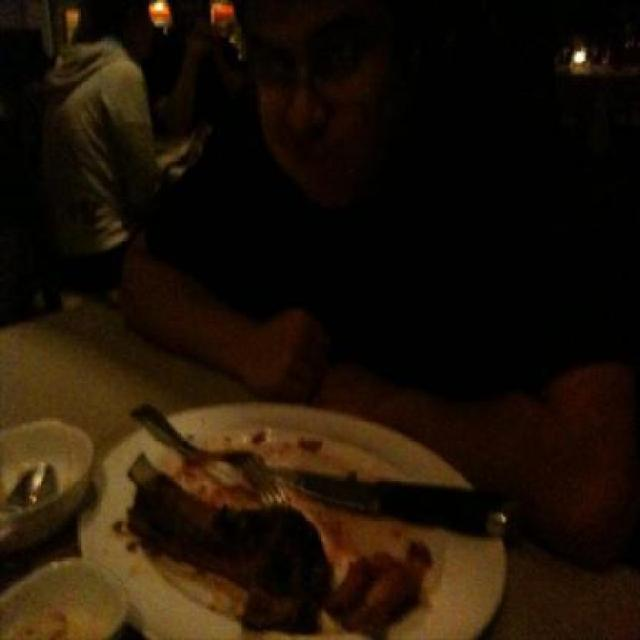Person: (106, 0, 639, 565), (37, 0, 163, 292)
